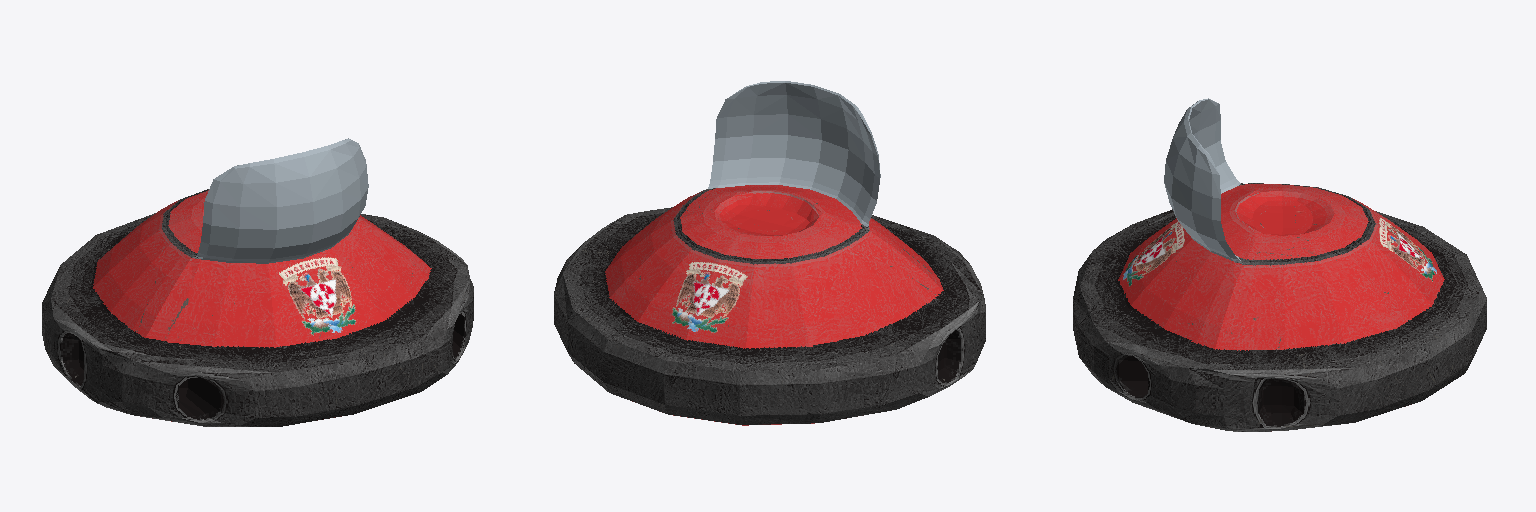
3 renders of one model, left to right at view 1: azimuth 30°, elevation 25°; view 2: azimuth 150°, elevation 25°; view 3: azimuth 270°, elevation 25°, orthographic.
Parts seen in each view (by area): view 1: Nave.001_Circle.003; view 2: Nave.001_Circle.003; view 3: Nave.001_Circle.003.
Part boxes in pixels (left/top/right/bottom): Nave.001_Circle.003: left=42, top=138, right=473, bottom=426; Nave.001_Circle.003: left=554, top=81, right=985, bottom=425; Nave.001_Circle.003: left=1073, top=98, right=1486, bottom=431.
Bounding box in the file's own units: 4.06 × 2.91 × 3.98.
Materials: 1 (1 with a texture image).